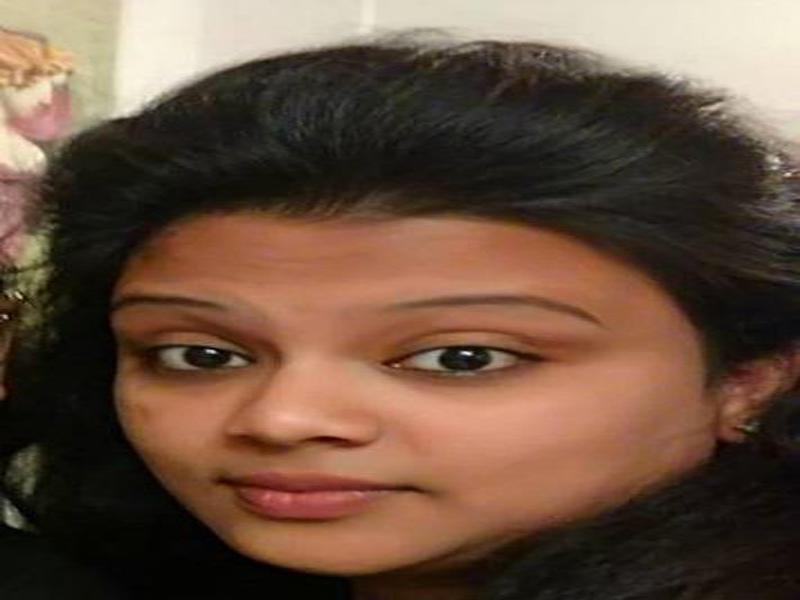without_mask: (116, 214, 625, 572)
